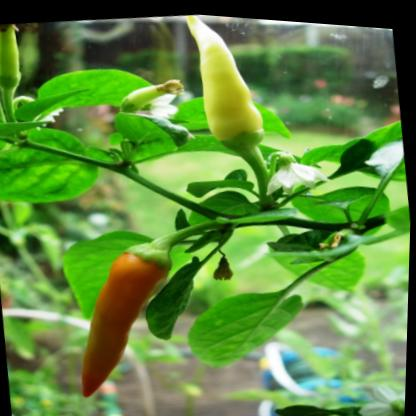chilli_pepper: (55, 202, 250, 412), (173, 10, 290, 216)
